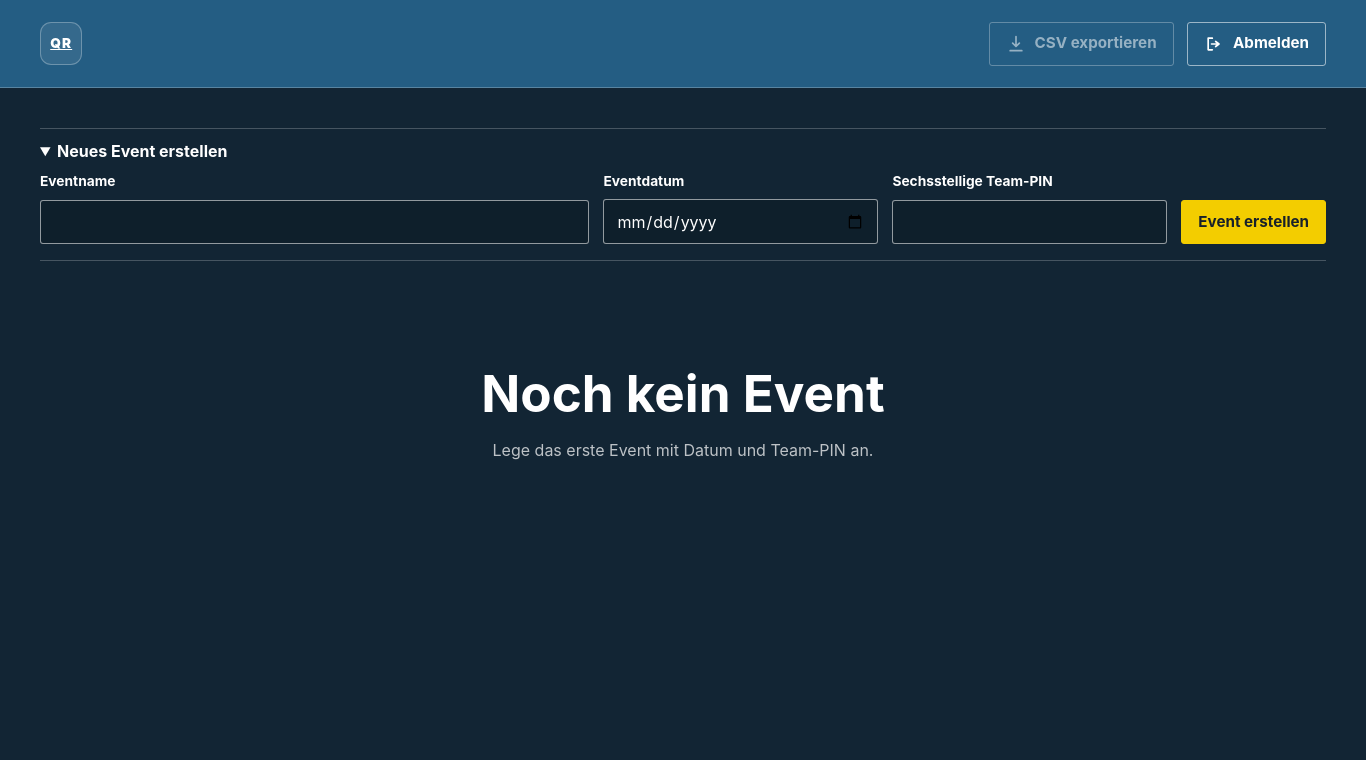
Test: creating an event refreshes and selects the server-confirmed event
Expected: the heading "Noch kein Event" is shown, [481, 362, 885, 424]
Type "RT22 Sommerfest" into the field labelled "Eventname" at (315, 222), box [40, 200, 589, 244]
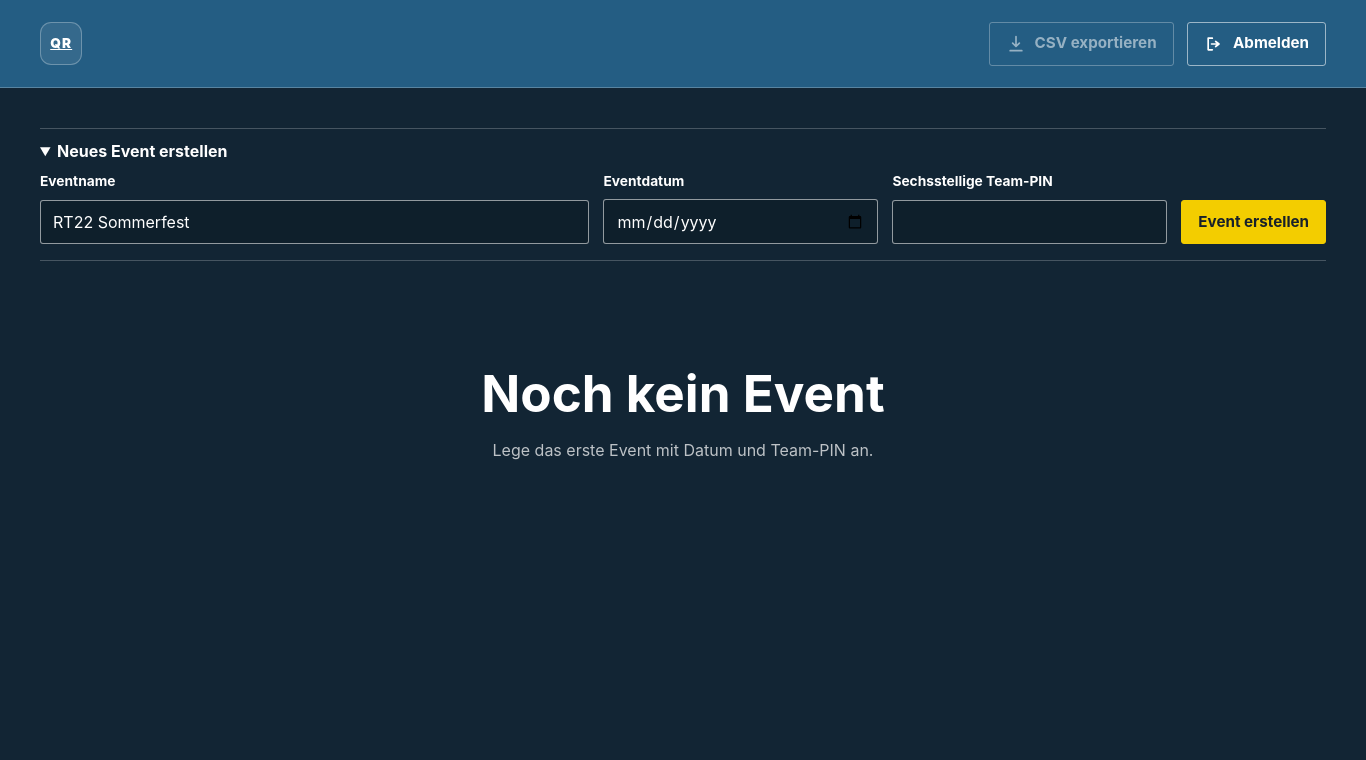
Type "2026-08-20" into the date field labelled "Eventdatum" at (741, 222), box [604, 199, 878, 244]
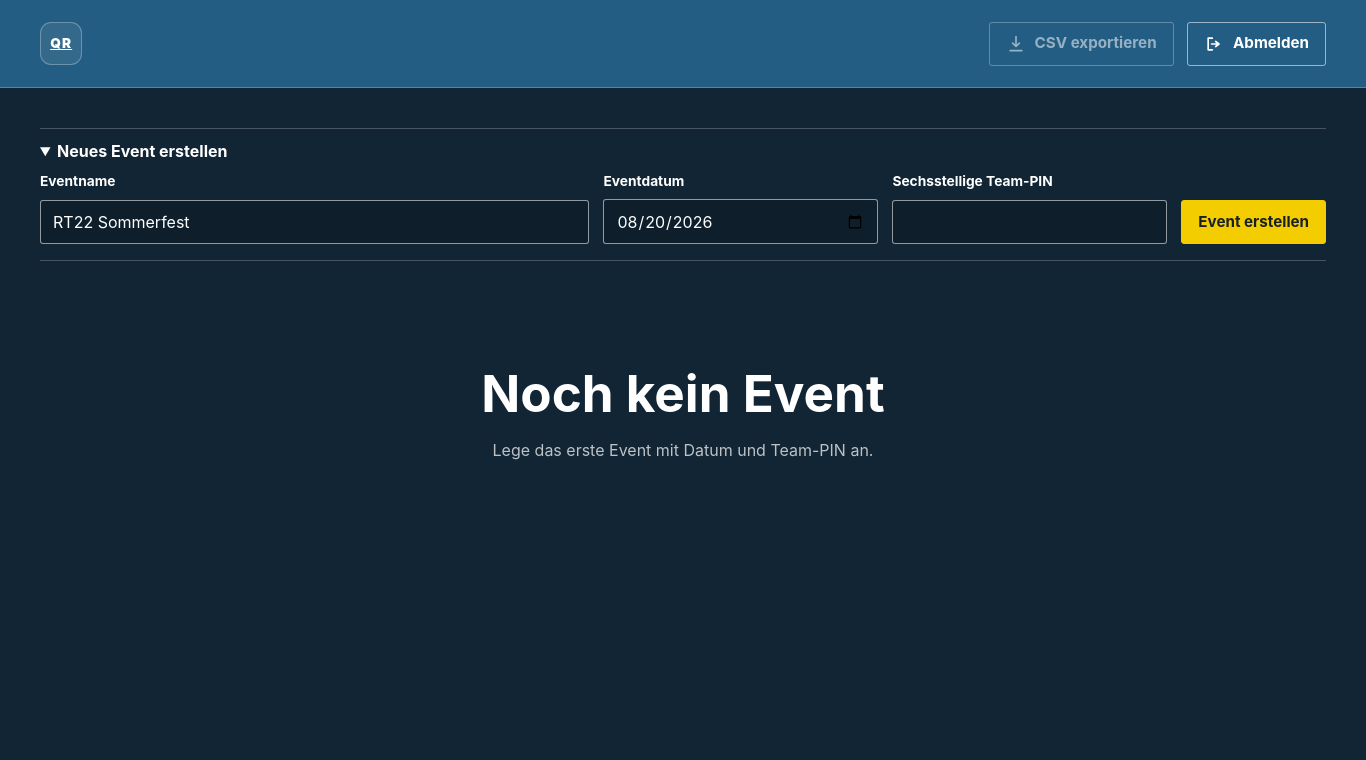
Type "246810" into the password field labelled "Sechsstellige Team-PIN" at (1030, 222), box [892, 200, 1167, 244]
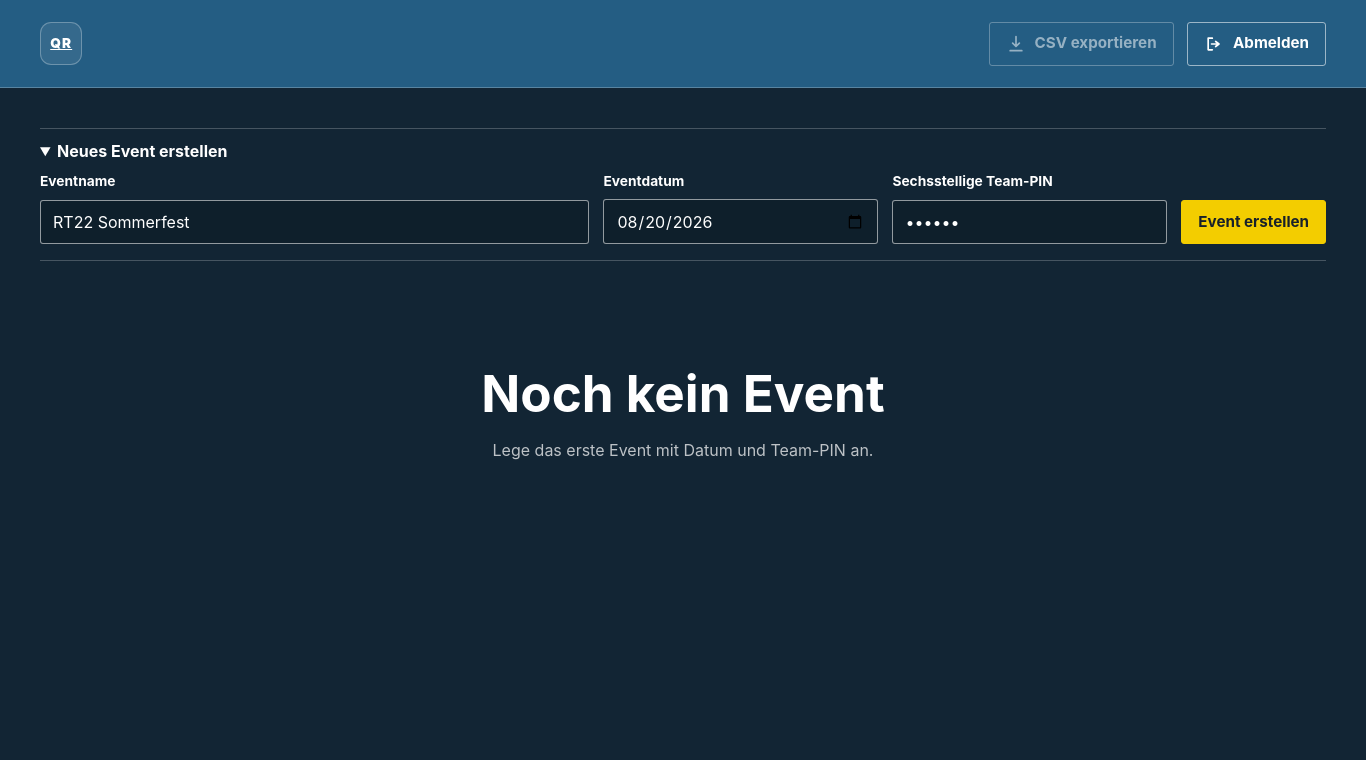
Click the button "Event erstellen" at (1254, 222), box [1181, 200, 1326, 244]
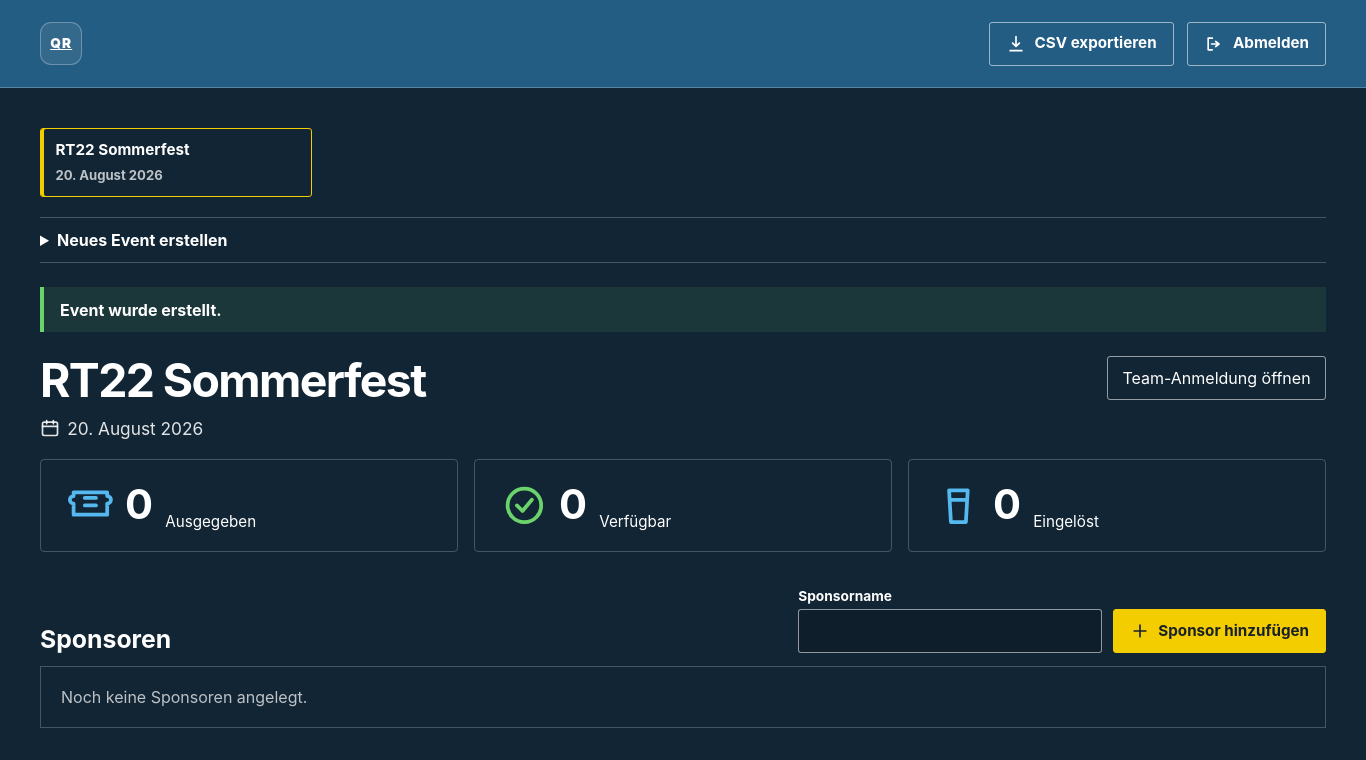
Expected: the message reads "Event wurde erstellt.", [60, 300, 222, 320]
Expected: the heading "RT22 Sommerfest" is shown, [40, 352, 426, 408]
